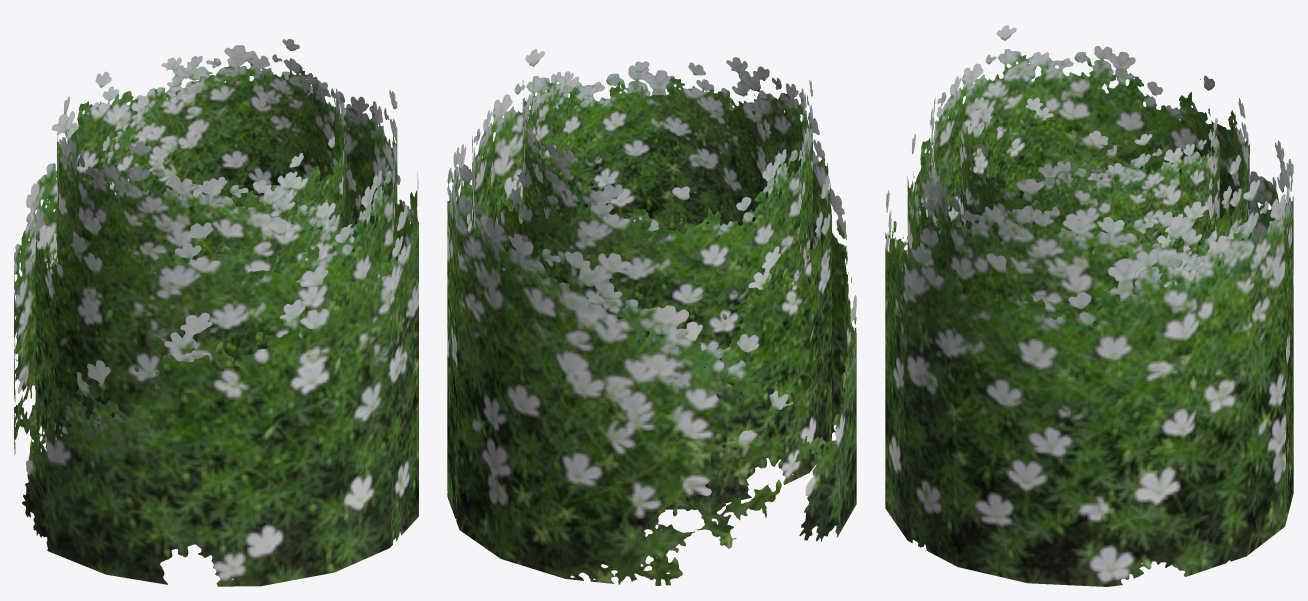
The model's file is arbusto.dae.
3 renders of one model, left to right at view 1: azimuth 30°, elevation 25°; view 2: azimuth 150°, elevation 25°; view 3: azimuth 270°, elevation 25°, orthographic.
Visible parts, largest first — view 1: Cylinder, Cylinder.001, Cylinder.003, Cylinder.002; view 2: Cylinder, Cylinder.002, Cylinder.003, Cylinder.001; view 3: Cylinder, Cylinder.002, Cylinder.001, Cylinder.003.
Part boxes in pixels (x1,y1,x2,y2): Cylinder: (14, 45, 418, 586); Cylinder.001: (35, 71, 397, 451); Cylinder.003: (102, 39, 346, 256); Cylinder.002: (57, 66, 365, 287); Cylinder: (447, 144, 856, 585); Cylinder.002: (491, 57, 812, 367); Cylinder.003: (522, 61, 778, 236); Cylinder.001: (472, 49, 831, 509); Cylinder: (885, 140, 1293, 586); Cylinder.002: (929, 25, 1249, 266); Cylinder.001: (907, 104, 1233, 332); Cylinder.003: (960, 97, 1219, 255).
Size of the model in its own units: 1.99 by 1.99 by 2.25.
Materials: 1 (1 with a texture image).
